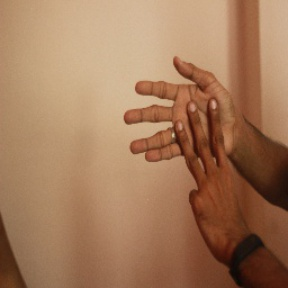M: (117, 52, 240, 200)
